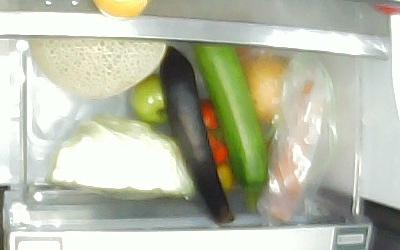cabbage: (50, 114, 202, 200)
carrot_vinyl: (262, 78, 326, 220)
eggplant: (160, 47, 233, 223)
melon: (29, 37, 168, 99)
pear_vinyl: (241, 53, 289, 125)
tomato: (198, 99, 230, 169), (128, 76, 167, 125)
zucchini: (189, 44, 267, 216)
